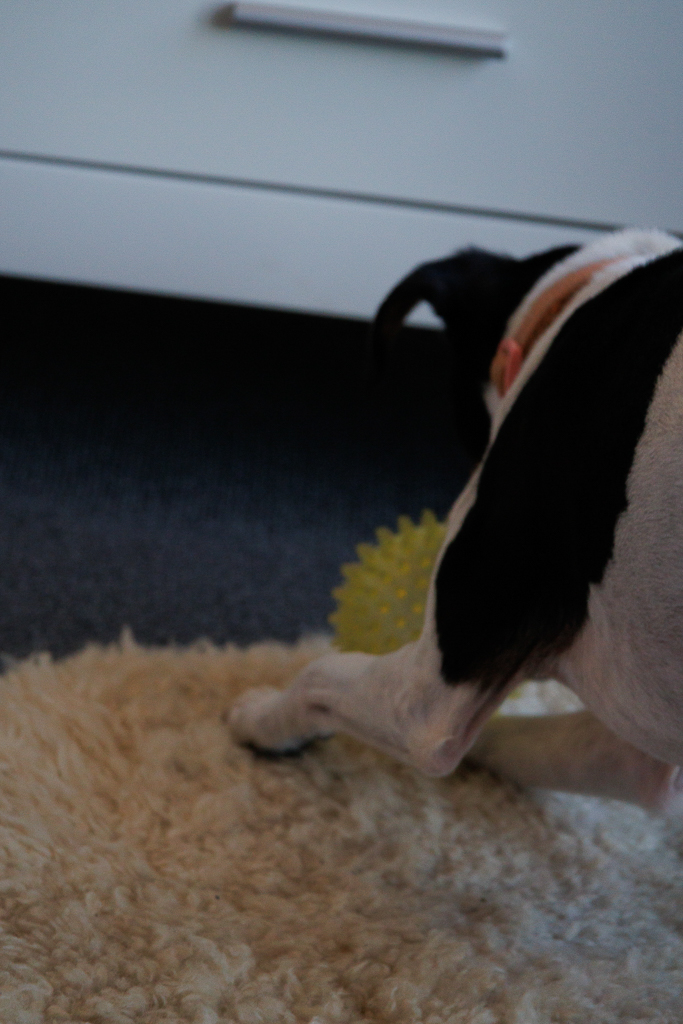Dog: (210, 212, 682, 829)
